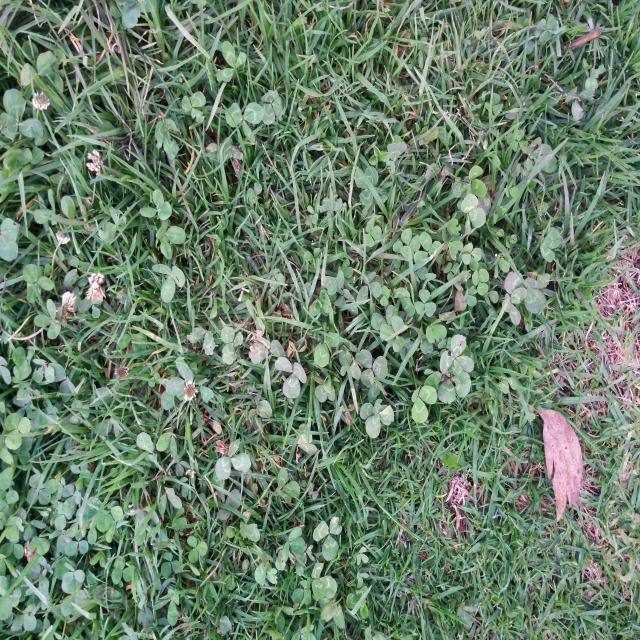Four Leaf Clover: (440, 334, 474, 378)
